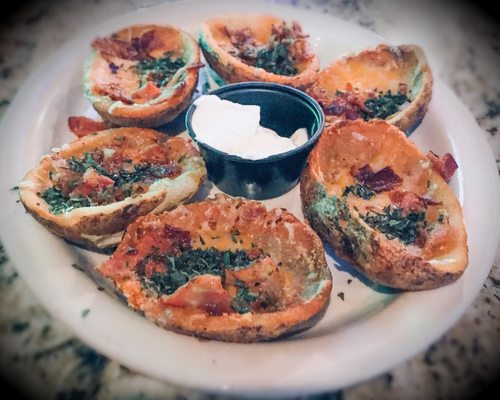soup: (299, 118, 469, 293)
sushi: (185, 82, 324, 200), (81, 22, 203, 129), (196, 13, 322, 92)
